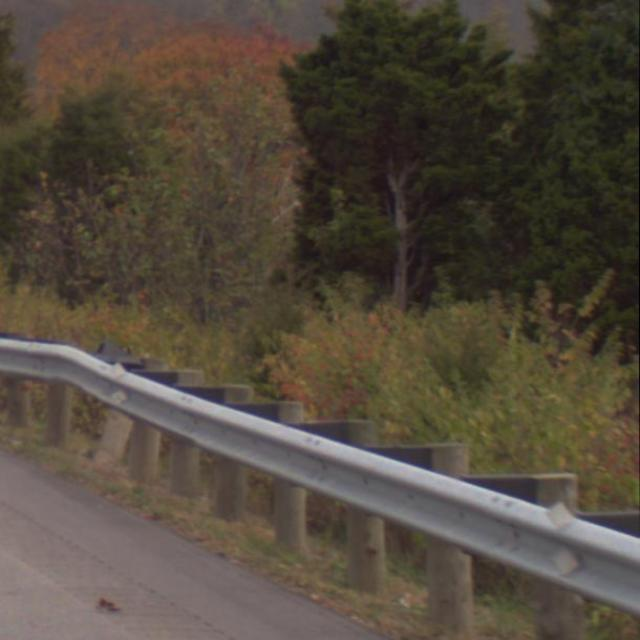Guard rail: (0, 323, 640, 640)
